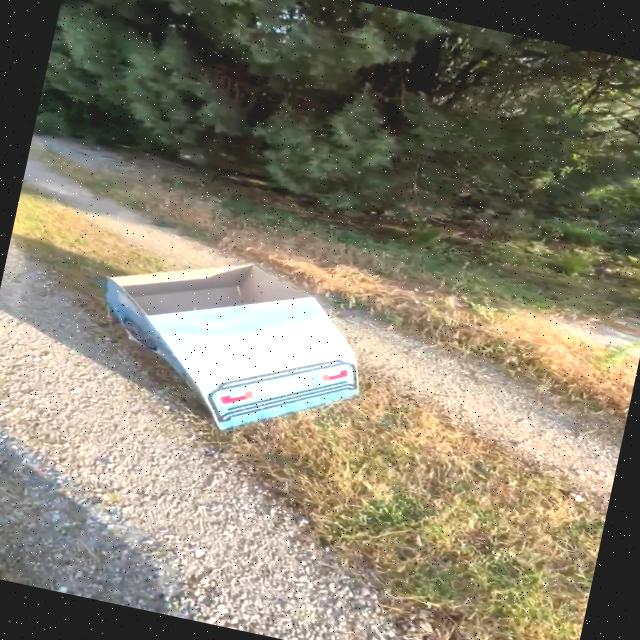blue_car: (47, 218, 450, 483)
